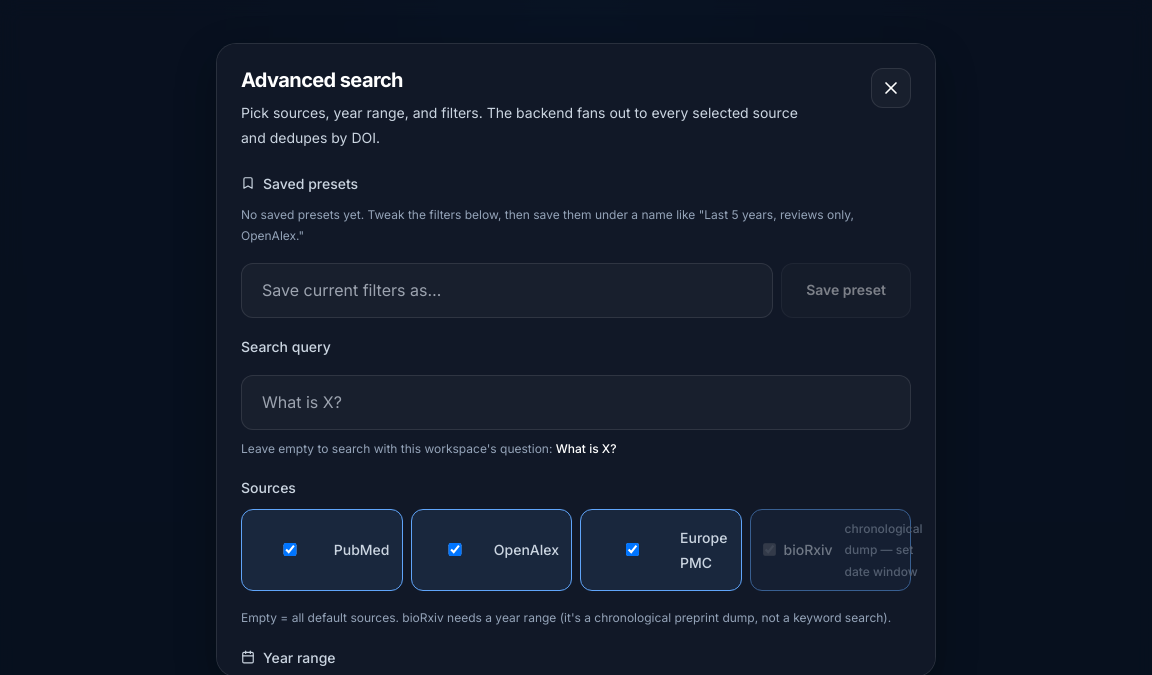
Test: AdvancedSearchModal › presets › saves a preset under the typed name
This screenshot has width=1152, height=675.
Type "My preset" into the field named "New preset name". click: point(507, 290)
box: [241,263,773,318]
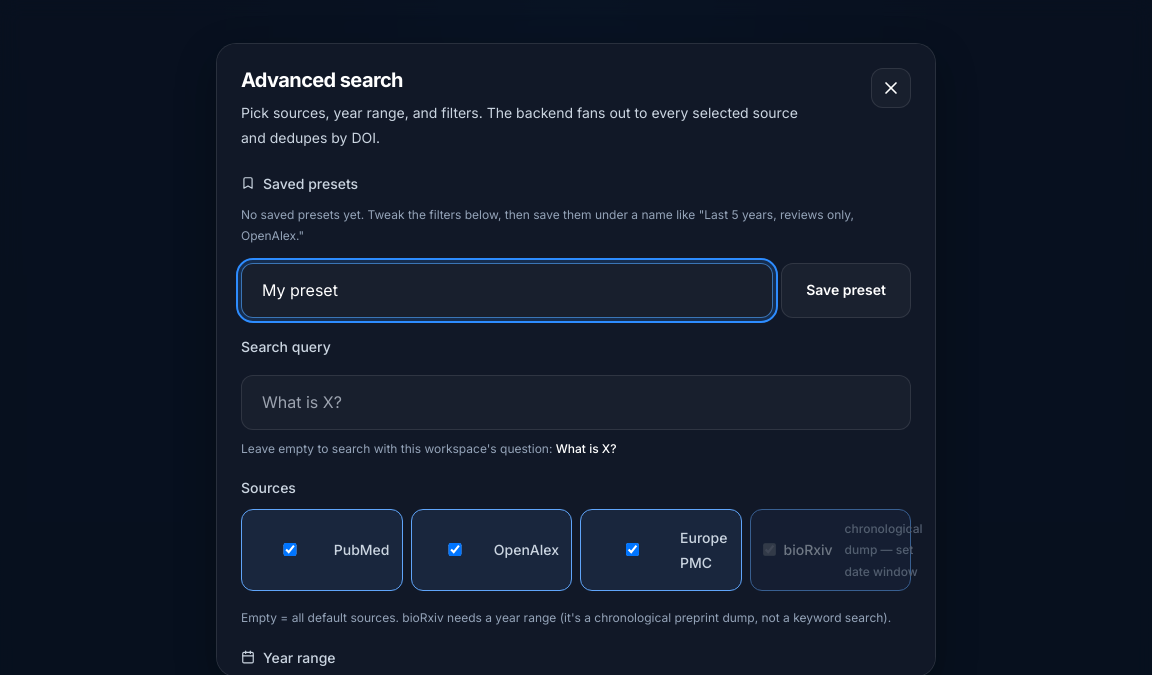
Click the button "Save preset". click: point(846, 290)
box: [781,263,911,318]
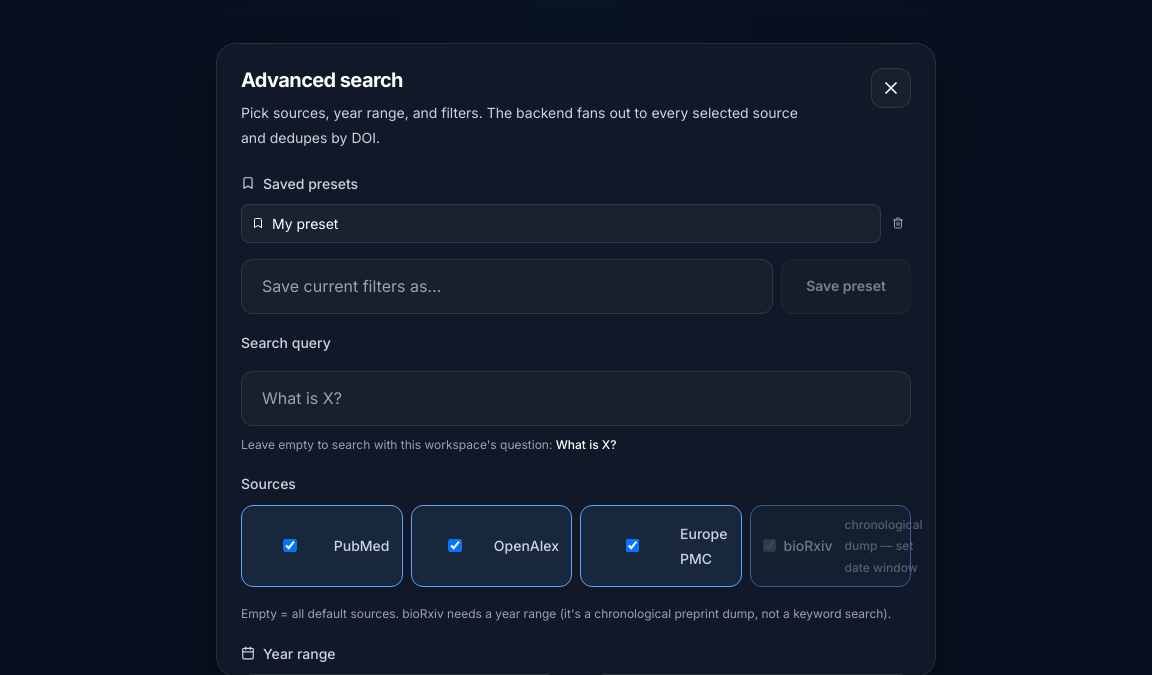
Now the text "My preset" is shown, box [272,215,338,232]
Now the field named "New preset name" is empty, box [241,259,773,314]
